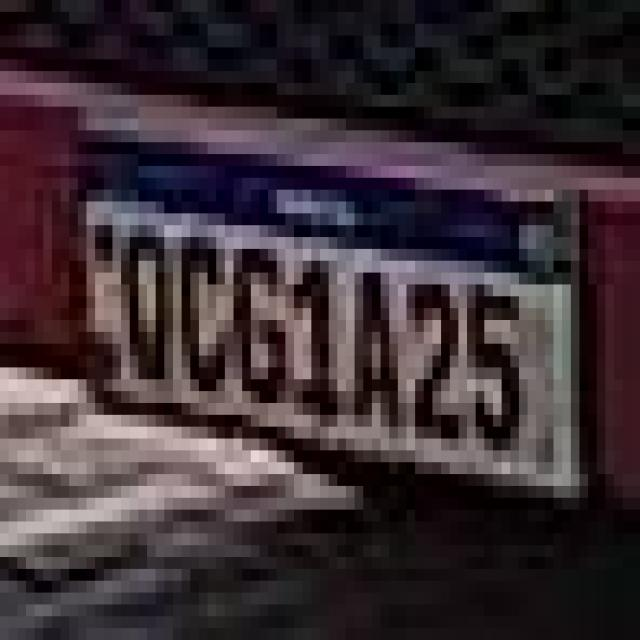1: (291, 246, 341, 412)
5: (466, 275, 531, 456)
A: (348, 261, 404, 440)
C: (174, 230, 230, 398)
G: (232, 239, 290, 408)
Q: (125, 226, 174, 392)
